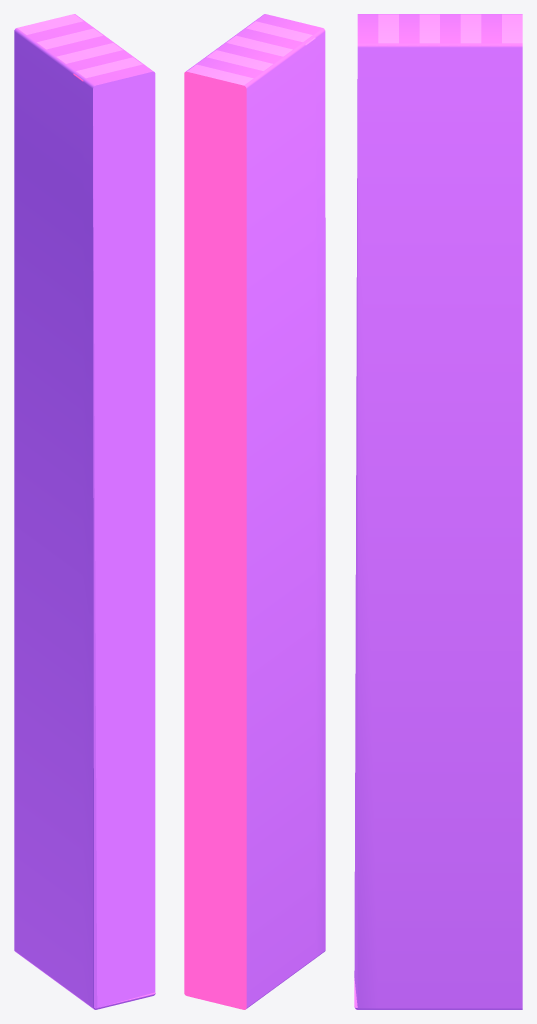
The model's file is RoadNew.fbx.
The picture shows the model from 3 angles, left to right: view 1: azimuth 30°, elevation 25°; view 2: azimuth 150°, elevation 25°; view 3: azimuth 270°, elevation 25°; orthographic projection. The views are drawn at different scales.
Parts seen in each view (by area): view 1: ChamferBox006; view 2: ChamferBox006; view 3: ChamferBox006.
Part boxes in pixels (x1,y1,x2,y2): ChamferBox006: (14, 14, 155, 1009); ChamferBox006: (184, 14, 325, 1009); ChamferBox006: (354, 14, 522, 1009).
Bounding box in the file's own units: 300 × 4249 × 670.
